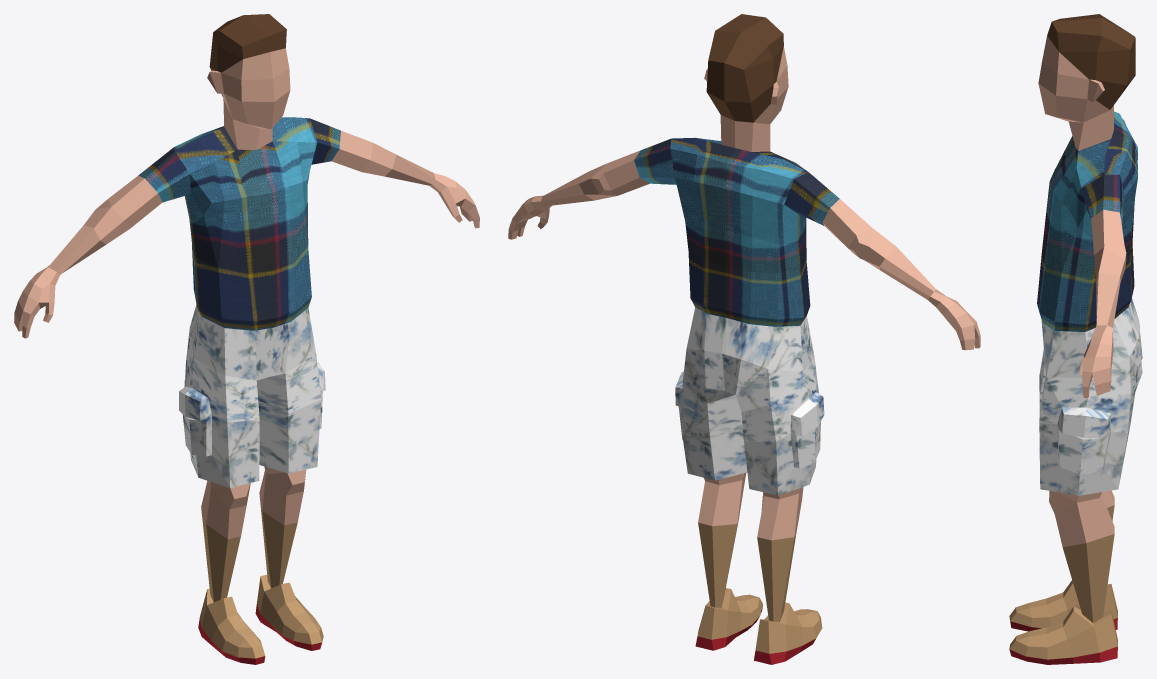
The model's file is Spring Boy.fbx.
3 views of the same model, side by side, from view 1: azimuth 30°, elevation 25°; view 2: azimuth 150°, elevation 25°; view 3: azimuth 270°, elevation 25° (orthographic). The views are drawn at different scales.
Visible parts, largest first — view 1: Spring Boy; view 2: Spring Boy; view 3: Spring Boy.
Part boxes in pixels (box(x1,y1,x2,y2)): Spring Boy: box(14, 14, 479, 664); Spring Boy: box(508, 14, 980, 664); Spring Boy: box(1009, 14, 1142, 664).
Size of the model in its own units: 95.75 by 123 by 23.75.
1 material, 1 textured.
